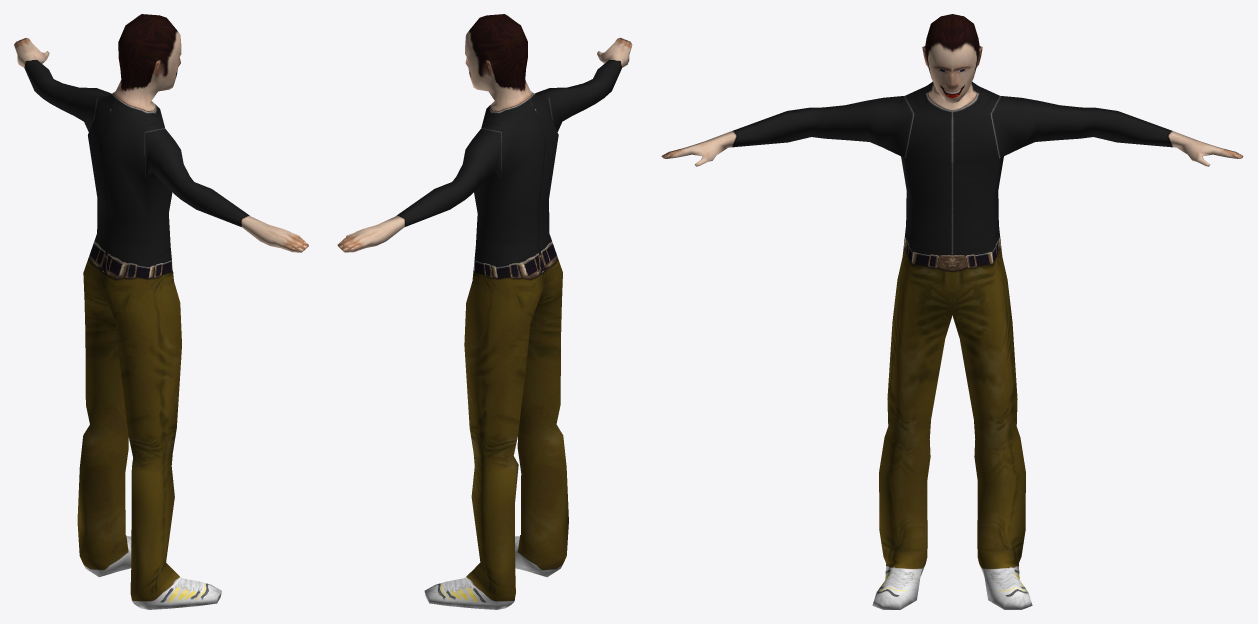
Rendered from human.dae.
3 views of the same model, side by side, from view 1: azimuth 30°, elevation 25°; view 2: azimuth 150°, elevation 25°; view 3: azimuth 270°, elevation 25° (orthographic).
Parts seen in each view (by area): view 1: Audience; view 2: Audience; view 3: Audience.
Boxes of the visible parts, x1,y1,x2,y2 form: Audience: (14,14,308,609); Audience: (337,14,632,609); Audience: (661,14,1243,609).
Size of the model in its own units: 28.76 by 158 by 172.
1 material, 1 textured.
